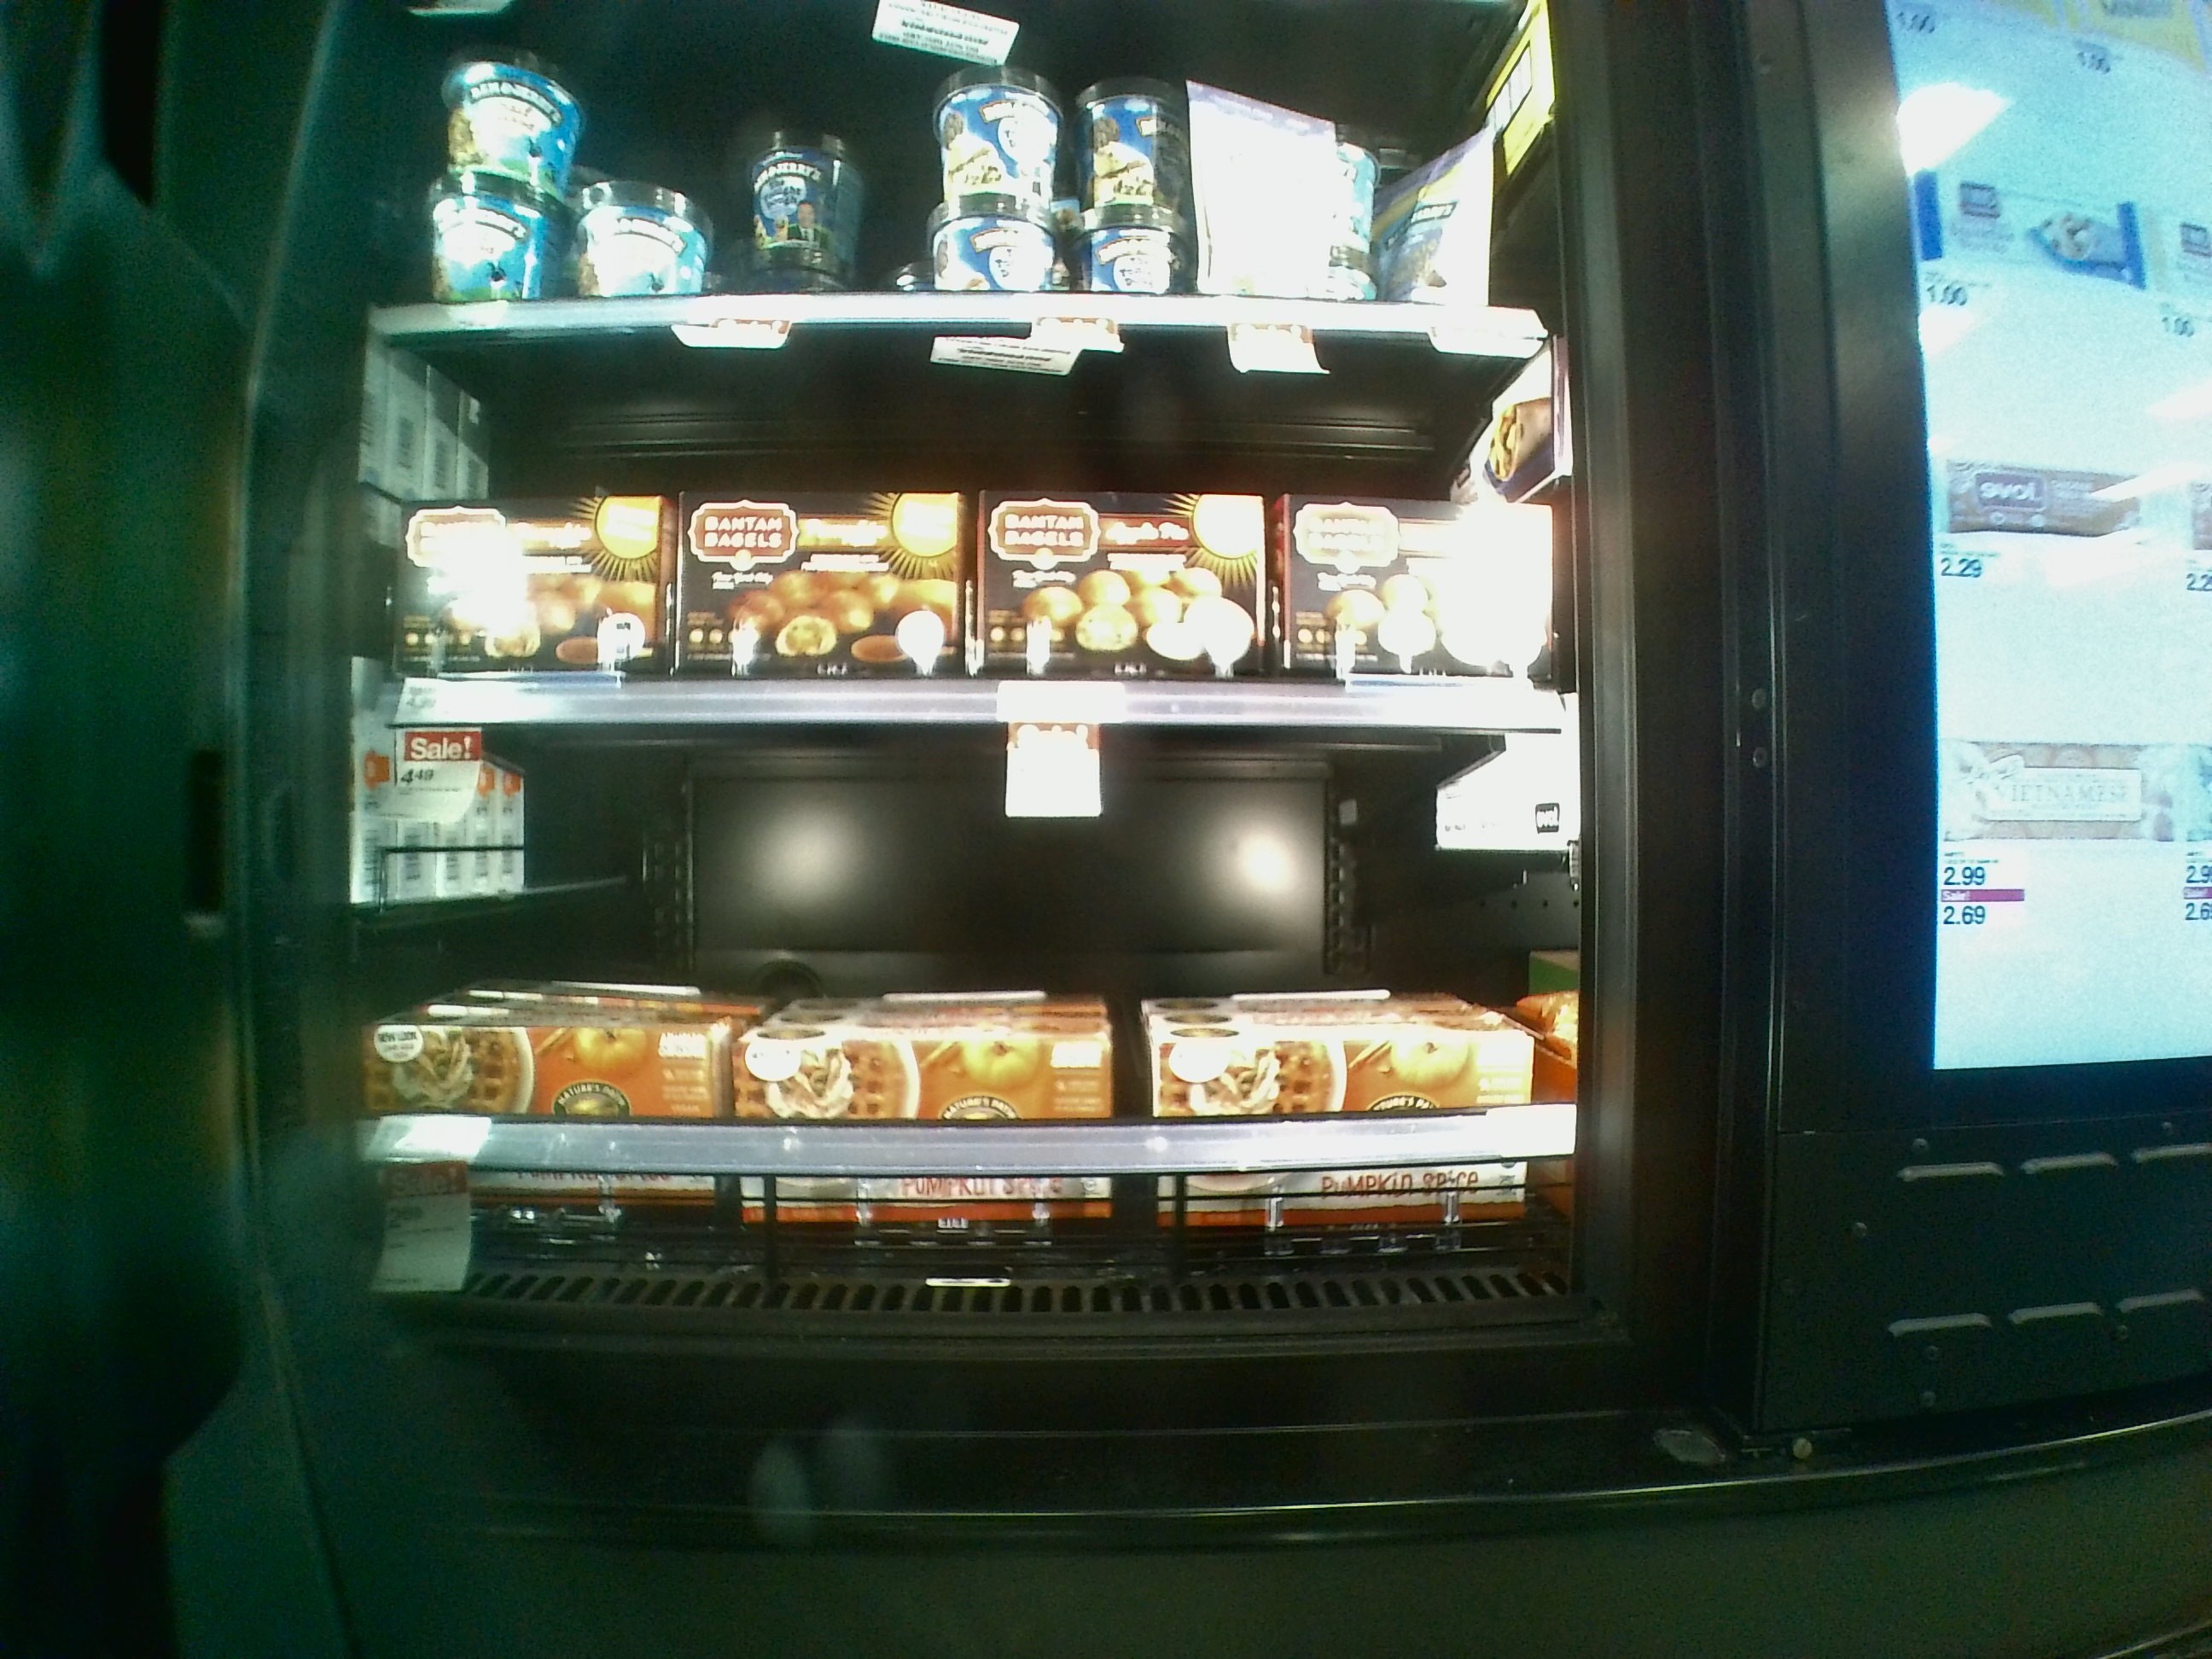shelf: (333, 685, 1620, 1337), (354, 305, 1587, 741)
